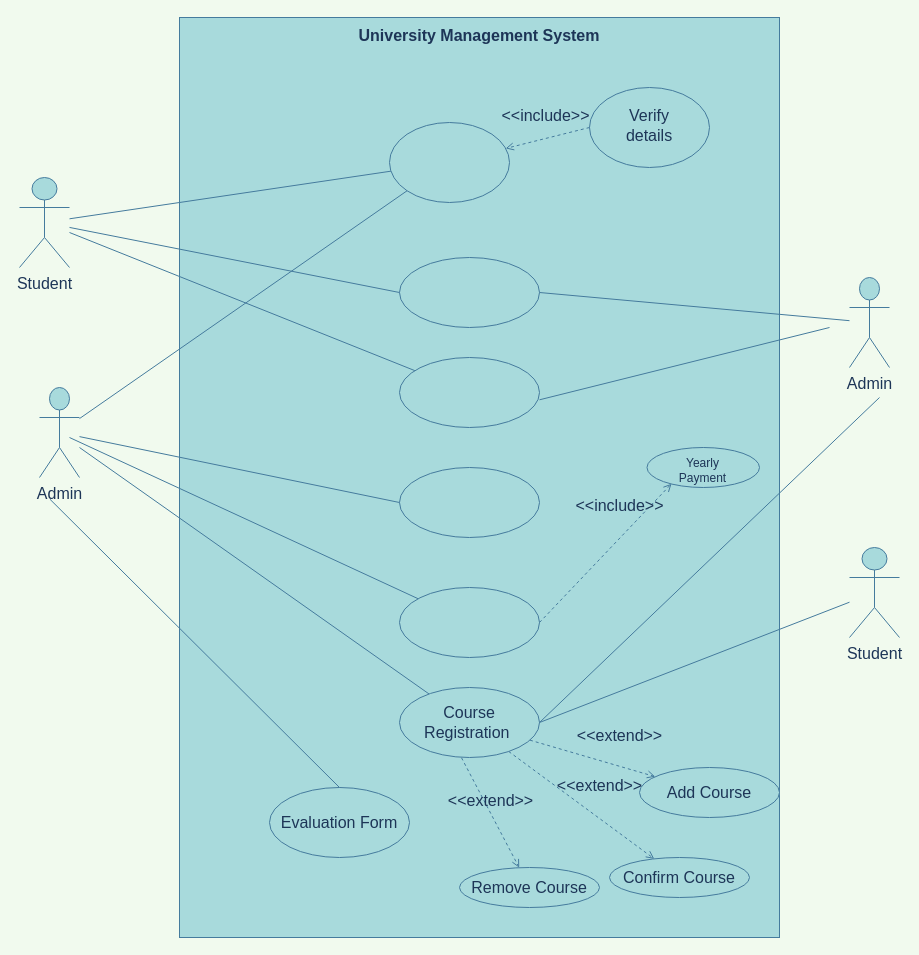
Image size: 919x955. Some labels were removed from this diagram. Each missing label, with the centre of its shape:
Login: the point at 449,162
Payment details: the point at 469,622
View Academic Information: the point at 469,502
View Financial details: the point at 469,392
View Portal/Profile: the point at 469,292
